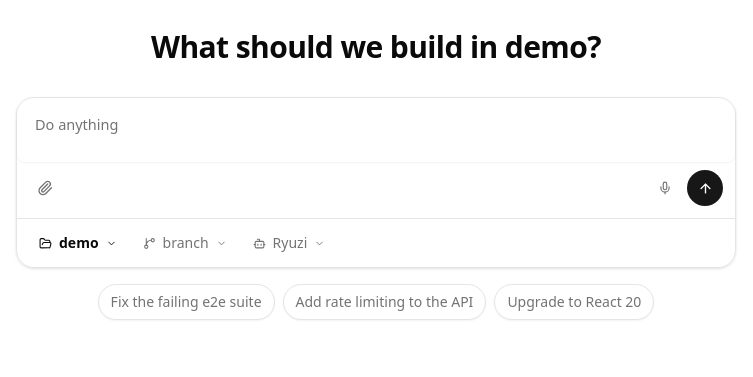
Test: choosing a context hit at a nonzero caret preserves text typed after it
This screenshot has width=753, height=377.
Type "@src/vi and done" into the text box with placeholder "Do anything".
click(376, 130); type("@src/vi and done")  # box [17,98,735,162]
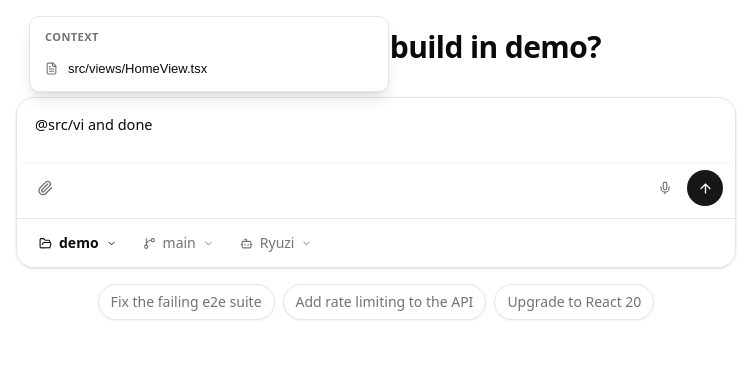
Click the button "src/views/HomeView.tsx".
click(209, 68)  # box [35,50,383,86]
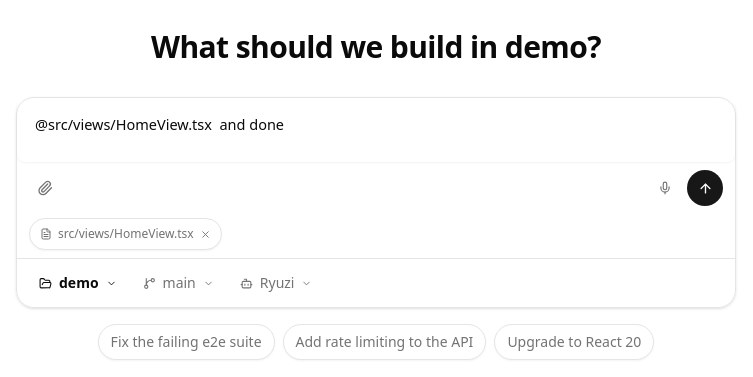
Expected: the text box with placeholder "Do anything" holds "@src/views/HomeView.tsx  and done", [17,98,735,162]
